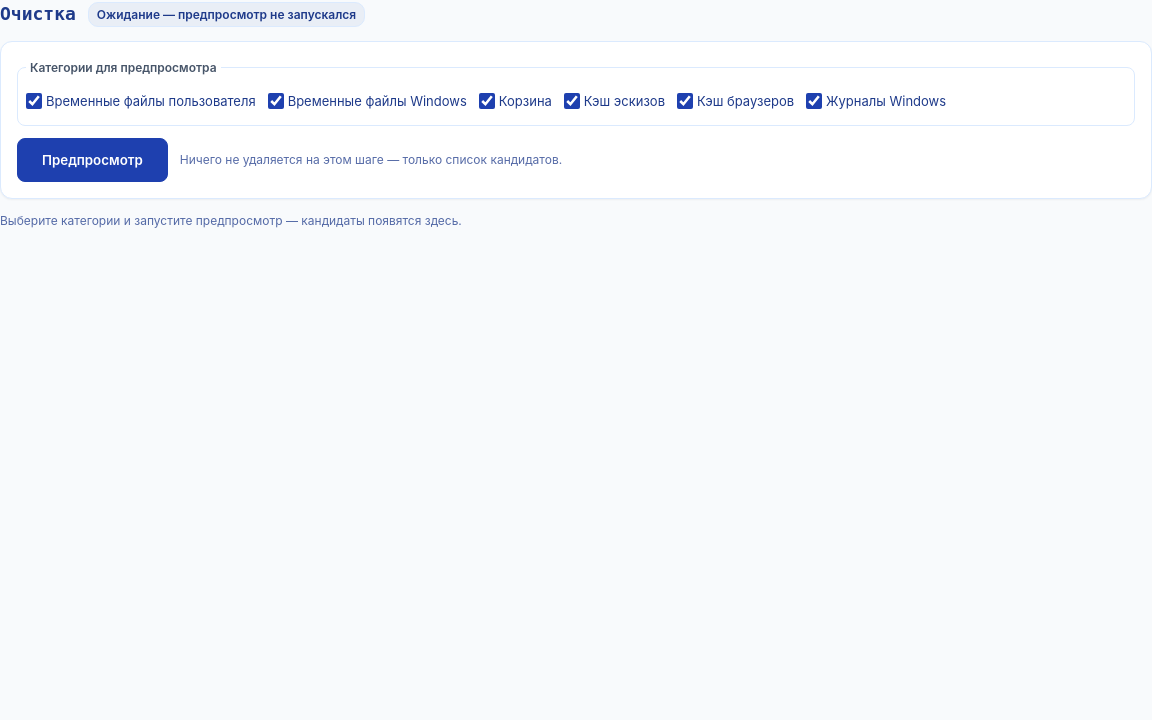
Test: cleaner — CleanerPage (jsdom project) › never deletes without selection and explicit confirmation
Click the button "Предпросмотр" at coordinates (92, 160), box [17,138,168,182]
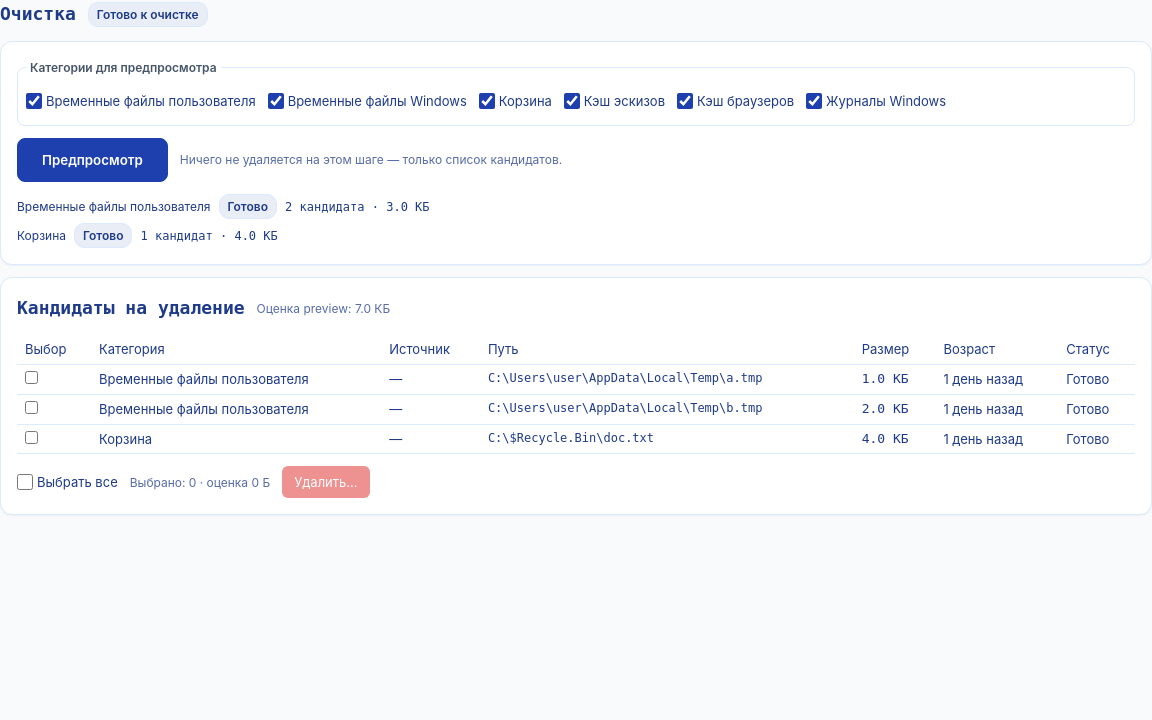
Check: the heading "Кандидаты на удаление" is shown, box [17,294,245,323]
Check: the button "Удалить…" is disabled, box [282,466,370,498]
Click the checkbox named "Выбрать C:\\Users\\user\\AppData\\Local\\Temp\\a.tmp" at coordinates (32, 378), box [25,371,38,384]
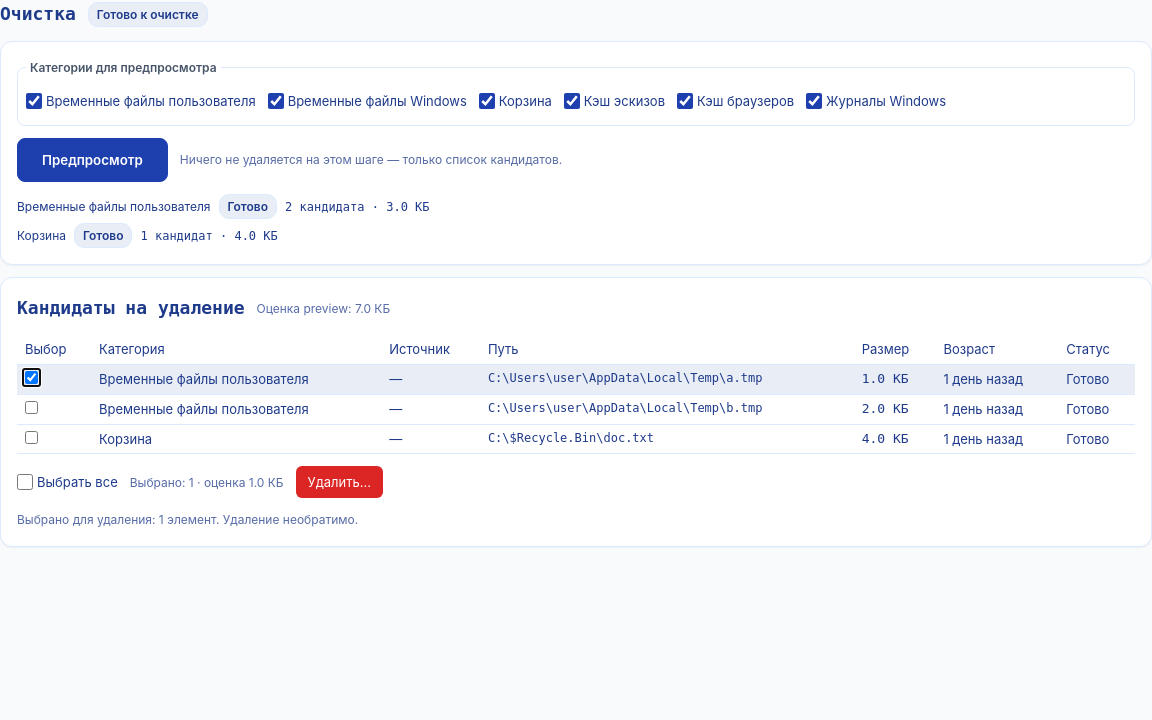
Check: the button "Удалить…" is enabled
Click the button "Удалить…" at coordinates (339, 482), box [296,466,383,498]
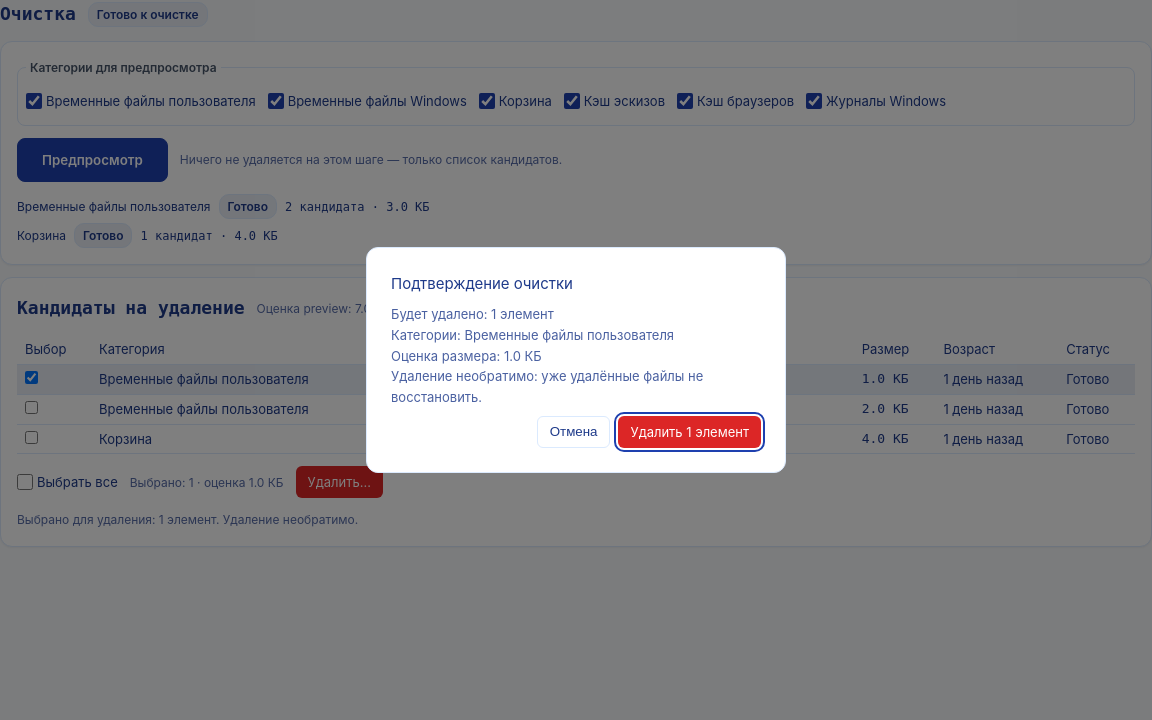
Check: the dialog is shown, box [366,247,786,473]
Click the button "Отмена" at coordinates (574, 432), box [537,416,610,448]
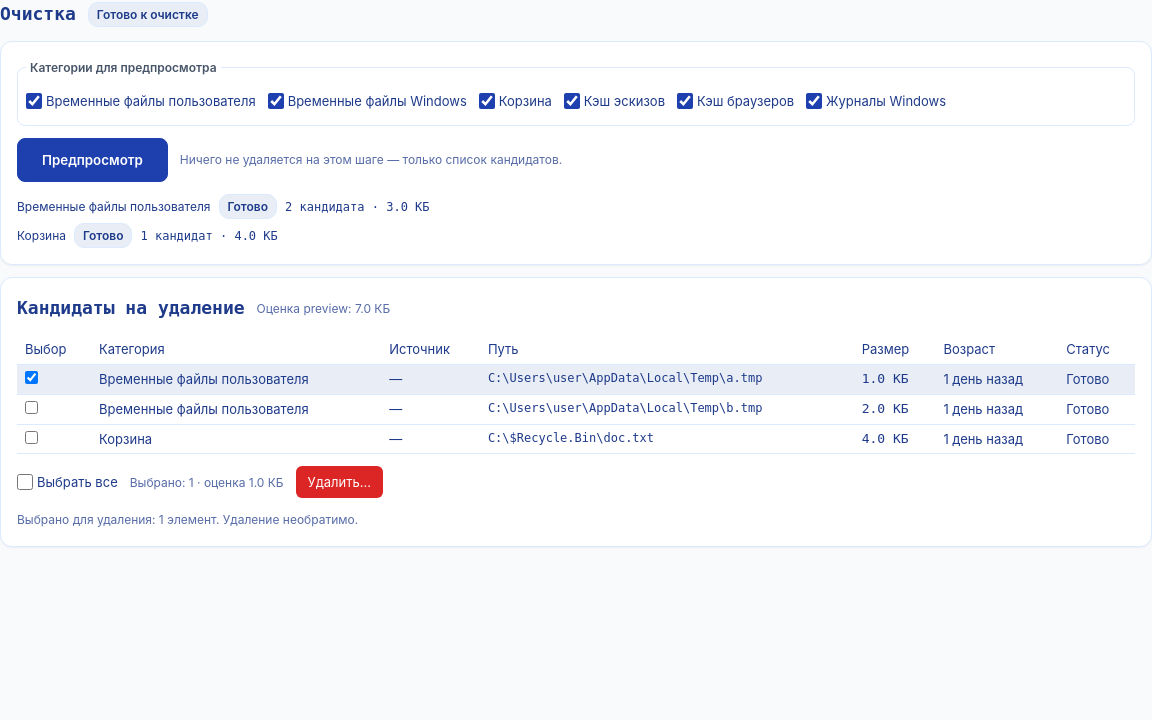
Check: the dialog is gone
